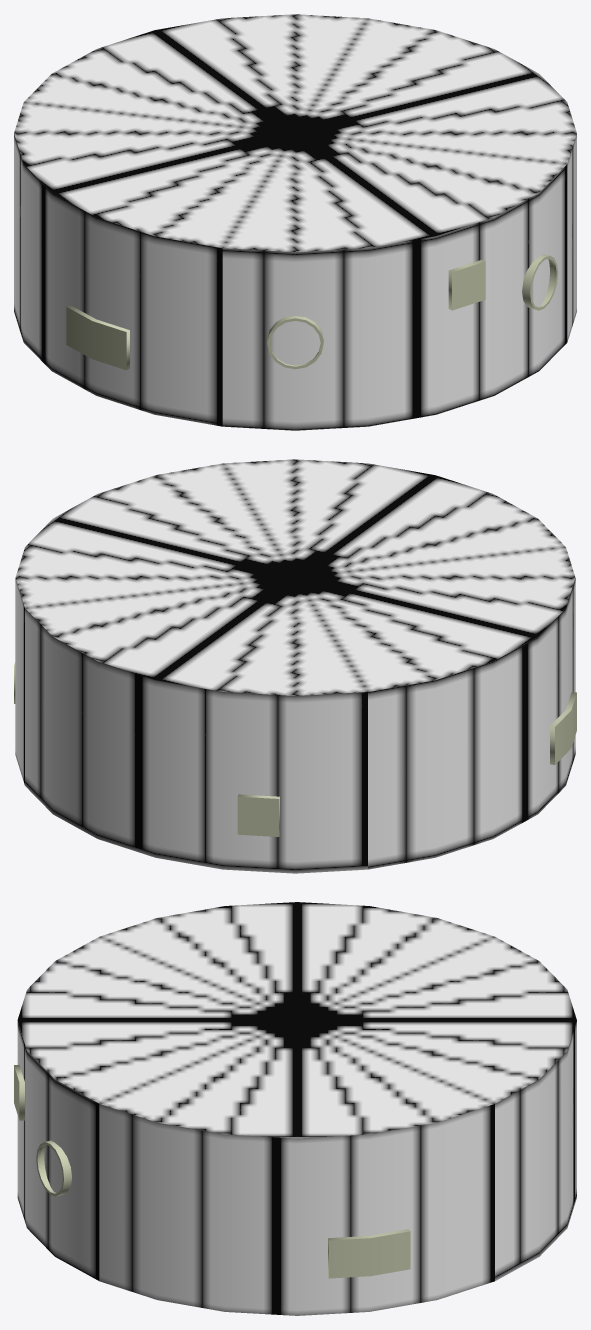
File: acamar_crew_s2_2_interior.obj
The picture shows the model from 3 angles, top to bottom: view 1: azimuth 30°, elevation 25°; view 2: azimuth 150°, elevation 25°; view 3: azimuth 270°, elevation 25°; orthographic projection.
Visible parts, largest first — view 1: internal1, mask1; view 2: internal1, mask1; view 3: internal1, mask1.
Part boxes in pixels (x1=…): internal1: x1=14, y1=14, x2=576, y2=430; mask1: x1=66, y1=254, x2=558, y2=370; internal1: x1=15, y1=459, x2=575, y2=873; mask1: x1=14, y1=662, x2=576, y2=836; internal1: x1=17, y1=902, x2=576, y2=1315; mask1: x1=14, y1=1064, x2=410, y2=1278.
Size of the model in its own units: 2.51 by 0.875 by 2.52.
2 materials, 1 textured.
